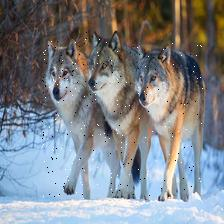WOLF: (134, 44, 203, 199), (83, 31, 139, 199), (42, 40, 92, 199)
